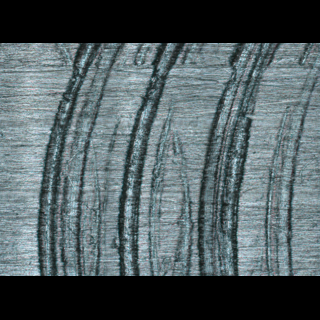d: (35, 43, 309, 276)
